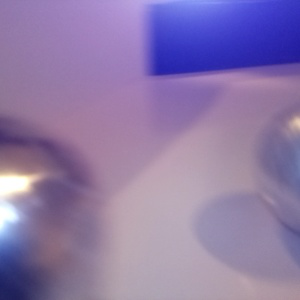alive_ball: (1, 116, 96, 300), (254, 102, 300, 233)
